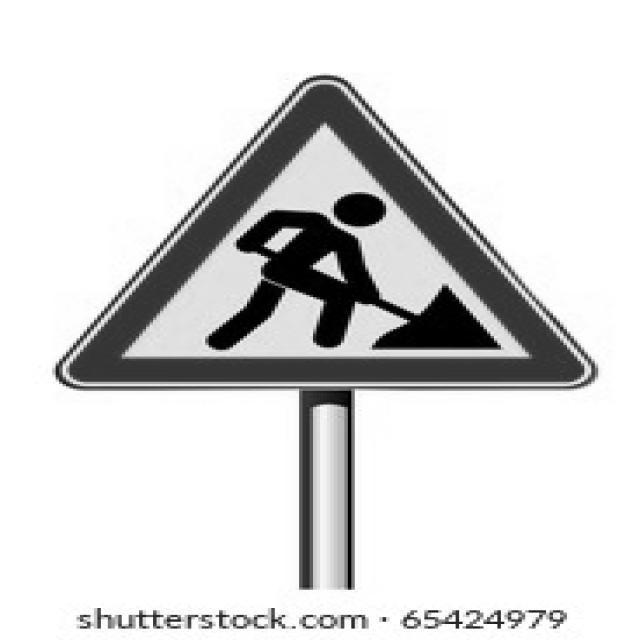men at work: (45, 66, 610, 407)
